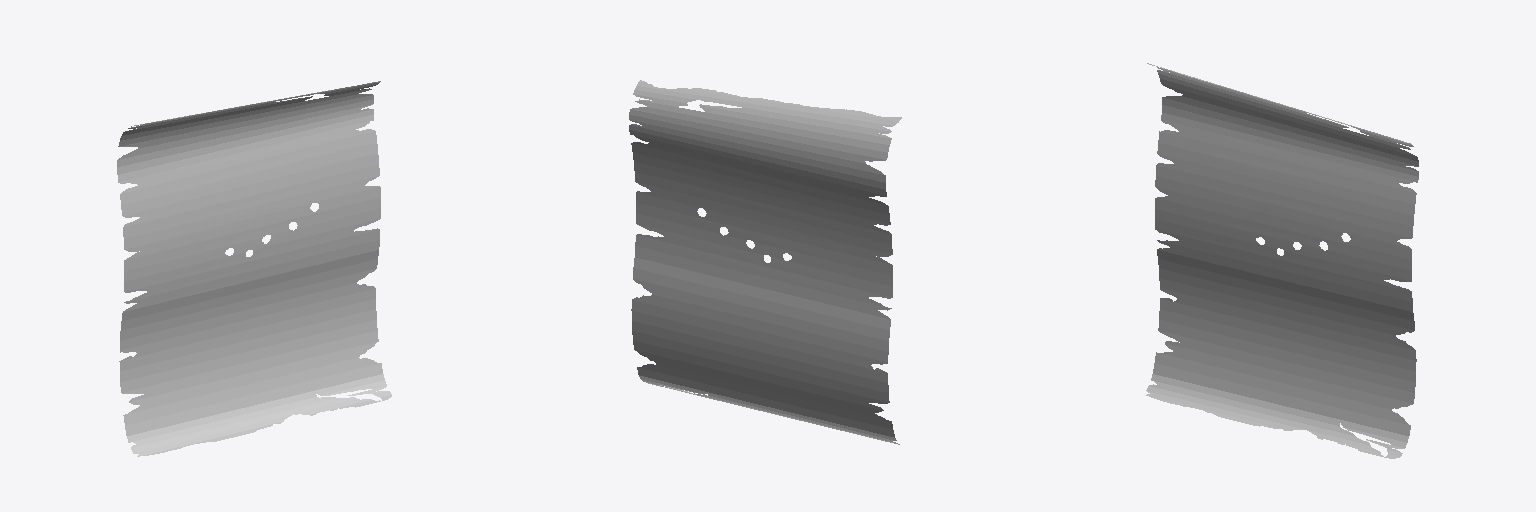
The model's file is plakat.obj.
The picture shows the model from 3 angles: view 1: azimuth 30°, elevation 25°; view 2: azimuth 150°, elevation 25°; view 3: azimuth 330°, elevation 25°; orthographic projection.
Parts seen in each view (by area): view 1: Group_001; view 2: Group_001; view 3: Group_001.
Part boxes in pixels (bbox=[...]): Group_001: bbox=[117, 81, 391, 456]; Group_001: bbox=[629, 80, 901, 444]; Group_001: bbox=[1146, 63, 1418, 458].
Bounding box in the file's own units: 2251 × 2774 × 326.